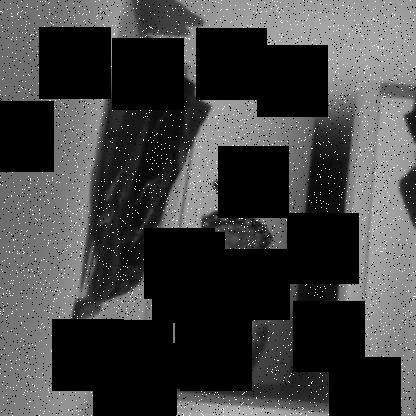Porte: (128, 62, 384, 415)
